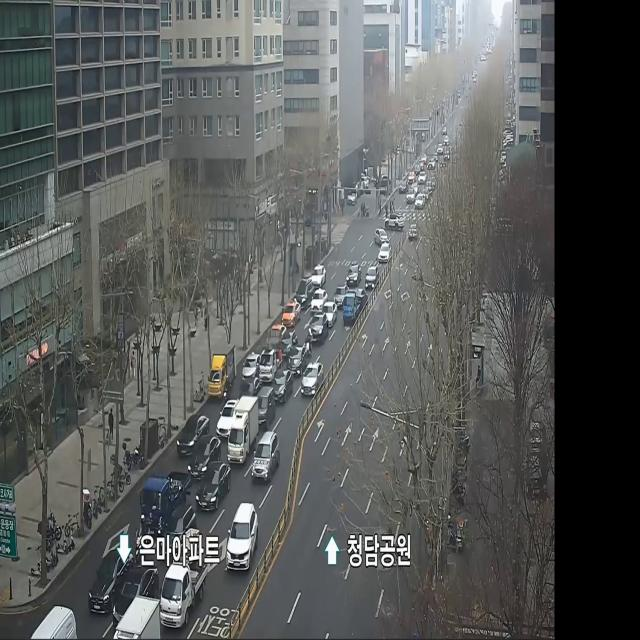motorcycle: (109, 548, 161, 616), (76, 562, 129, 618), (250, 411, 278, 490), (224, 504, 258, 569), (197, 455, 226, 529), (28, 605, 88, 640), (174, 411, 212, 457), (253, 374, 276, 436), (190, 428, 214, 485), (299, 353, 323, 403), (214, 395, 238, 439), (309, 313, 329, 353), (274, 370, 295, 406), (284, 298, 306, 331), (320, 298, 338, 336), (242, 350, 258, 390), (305, 283, 326, 313), (308, 259, 330, 286), (363, 263, 379, 293), (348, 263, 363, 291), (378, 236, 390, 267), (373, 225, 388, 245)
truck: (136, 458, 198, 532), (162, 547, 198, 636), (225, 386, 257, 473), (113, 602, 168, 640), (205, 342, 238, 398), (256, 339, 283, 381), (342, 288, 358, 324)
